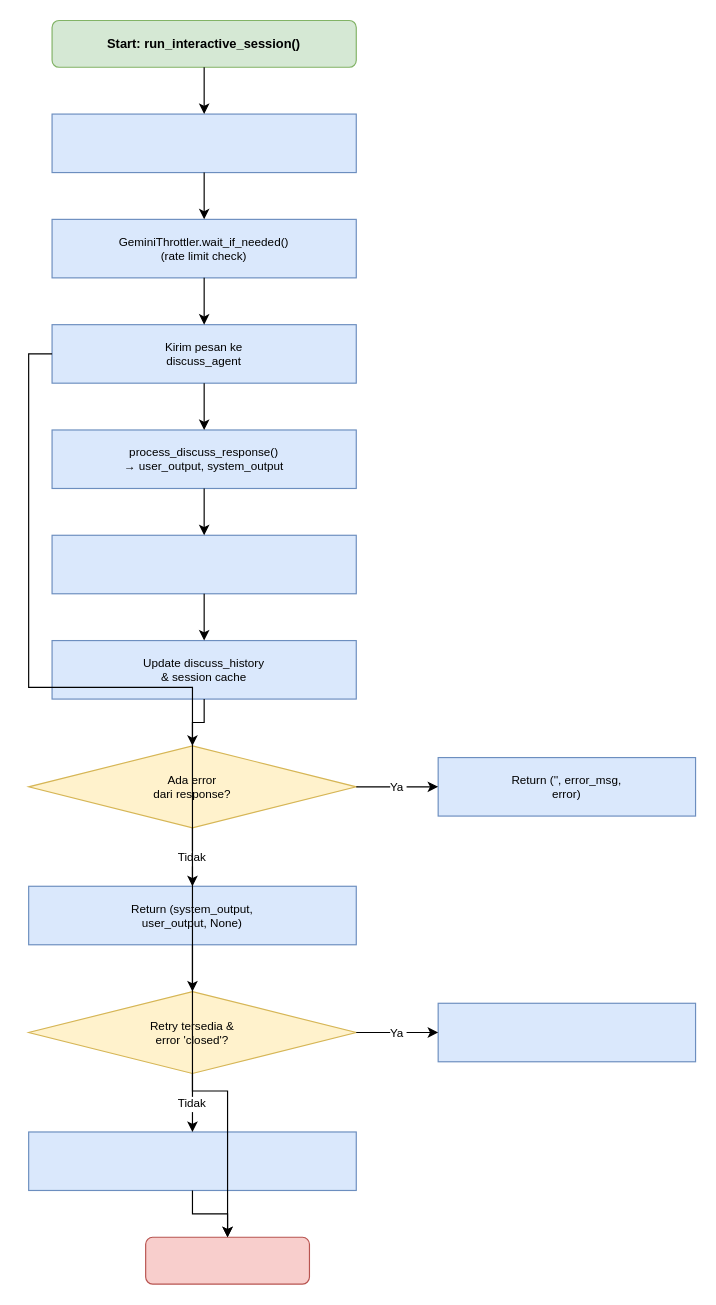
The diagram is 716 pixels wide and 1305 high, and some of its shapes have lost their labels. Here are the shapes that lost their labels. From the top down, the centre of each, then its label:
At pixel 203 143: "Format input ke JSON & tambahkan ke history".
At pixel 203 564: "Log token usage ke database".
At pixel 566 1032: "_recreate_clients() retry += 1".
At pixel 191 1160: "Return ('', 'An error occurred', last_err)".
At pixel 226 1260: "End".
